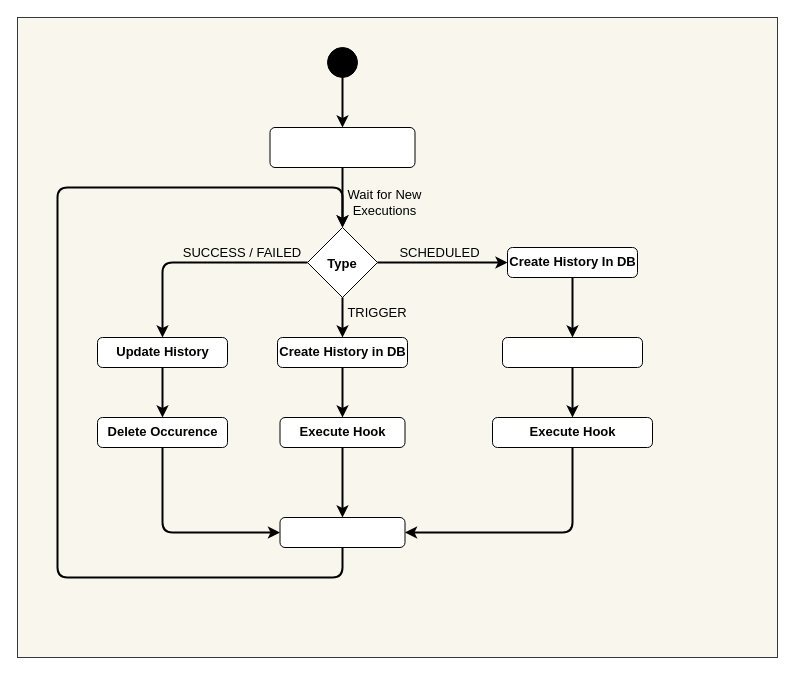
Some shapes in this 795 by 675 pixel diagram are drawn without their labels. Each missing label, with the box of its shape:
Create Next occurence: (502, 336, 642, 368)
Register Hooks Call Init of Hooks: (269, 126, 415, 168)
Wait On Channel: (279, 516, 405, 548)
